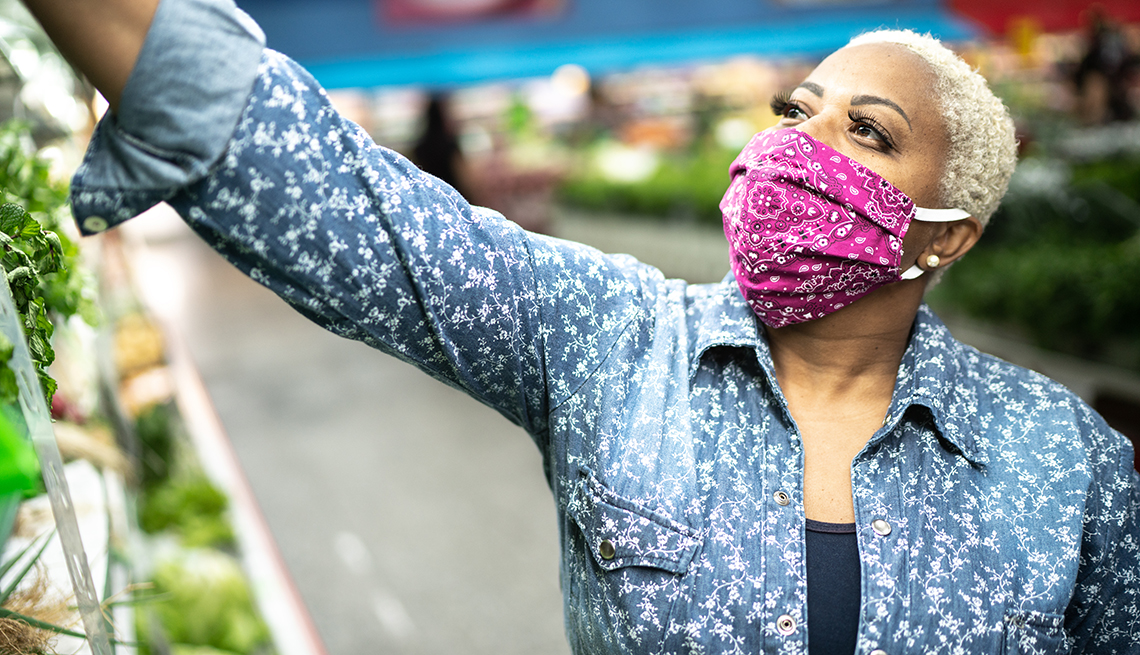with_mask: (701, 28, 1030, 354)
